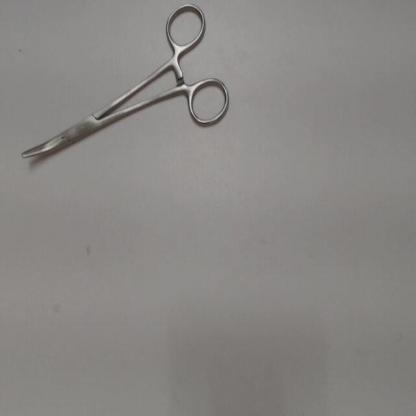Crile Artery Forceps: (14, 0, 234, 169)
